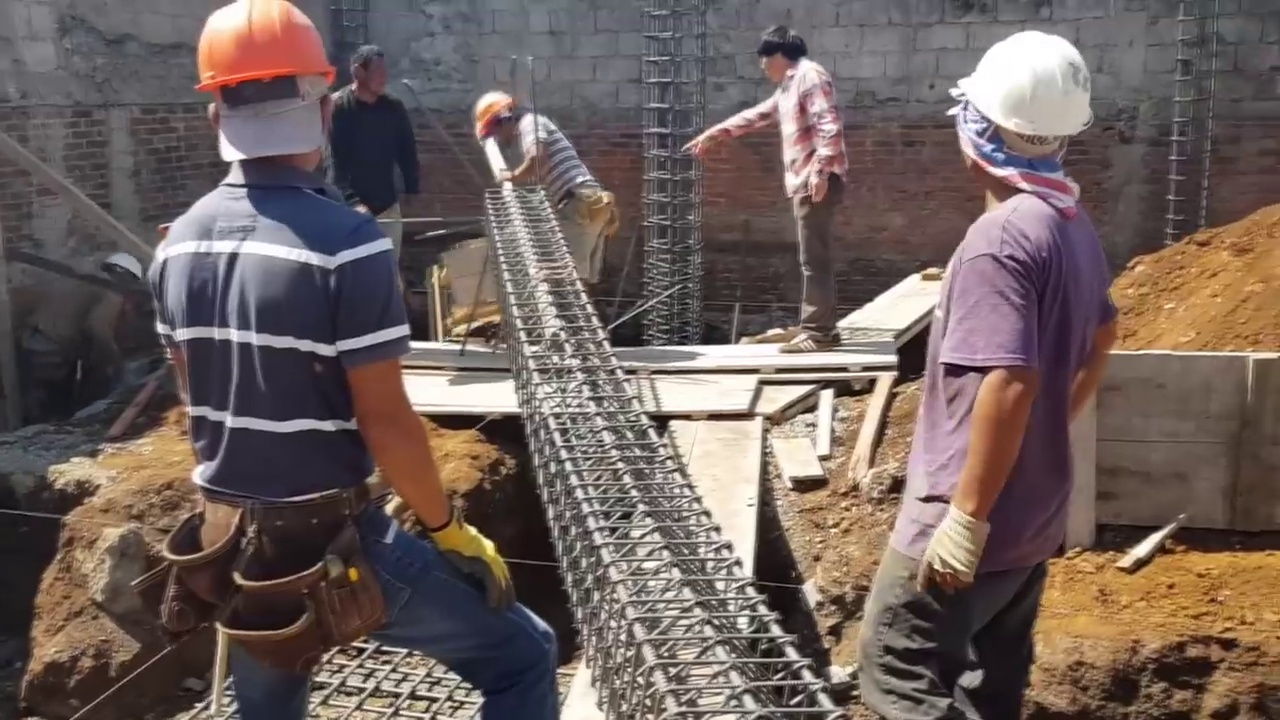helmet: (967, 27, 1098, 145), (183, 0, 333, 99), (471, 91, 511, 137), (101, 251, 144, 283)
helmet-off: (758, 24, 805, 78), (347, 44, 389, 91)
helmet-on: (941, 24, 1108, 217), (185, 0, 335, 199), (471, 92, 525, 145), (96, 250, 145, 301)
person: (140, 1, 513, 720), (856, 27, 1112, 689), (697, 32, 848, 367), (467, 94, 602, 271), (16, 254, 160, 410), (330, 41, 415, 256)
